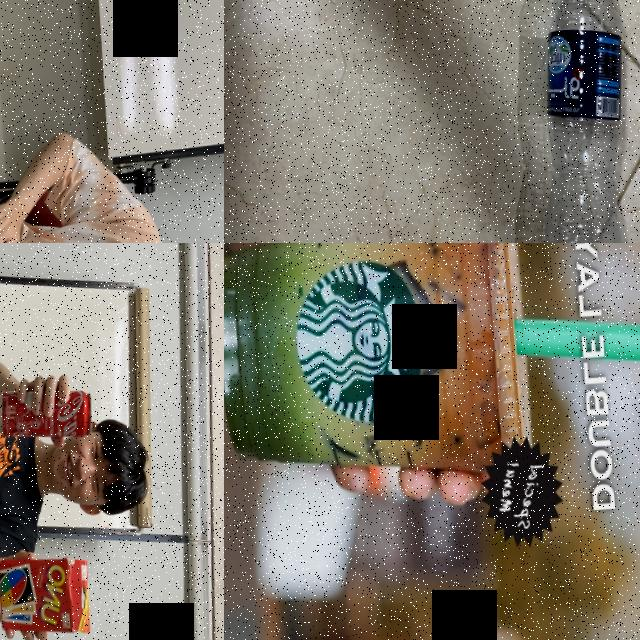bottle: (517, 0, 640, 243)
can: (0, 383, 93, 444)
cup: (224, 243, 533, 493)
